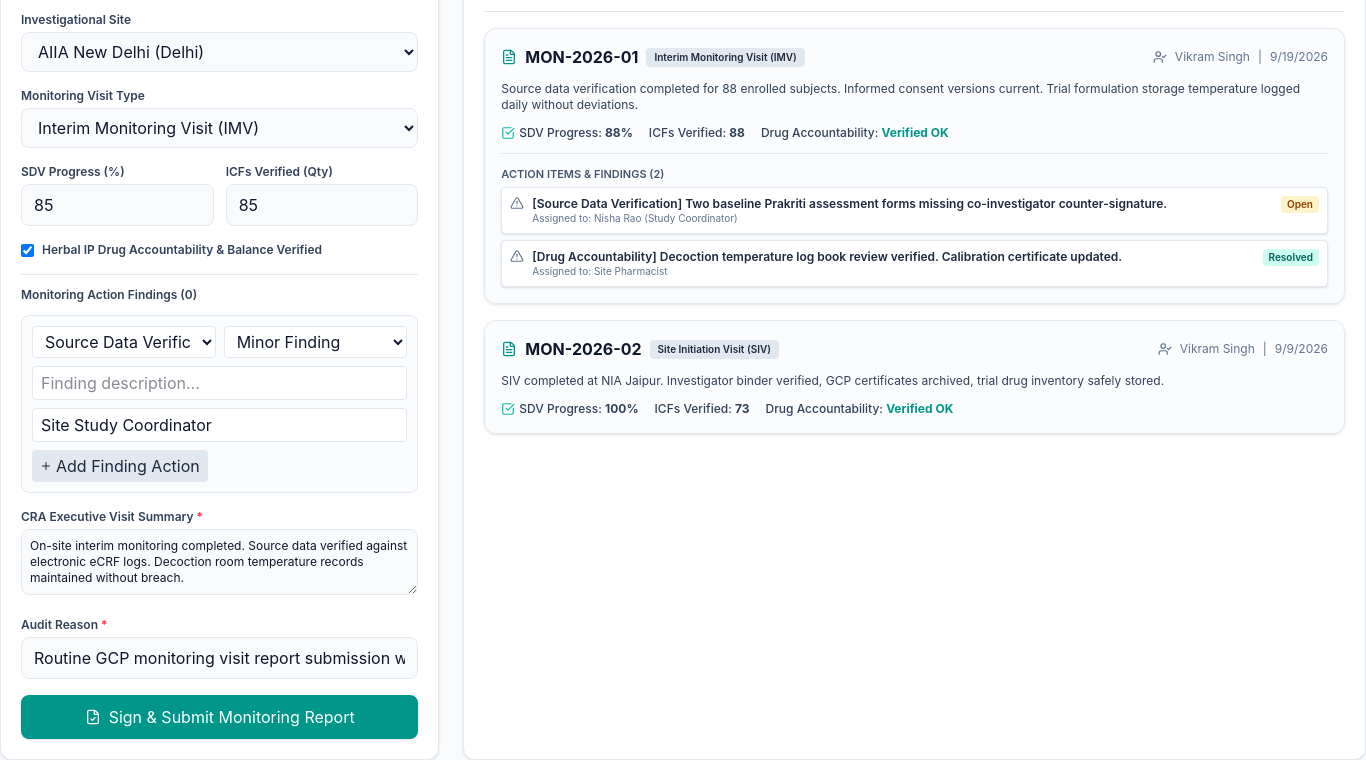
Scenario: MonitoringPage & CRA Trip Reports › adds an action finding item and submits signed CRA monitoring report
(page scrolled)
# Add finding item
In the field with placeholder "Finding description...": [220, 383] box [32, 366, 407, 400], type "Calibration log missing on herbal storage hygrometer"
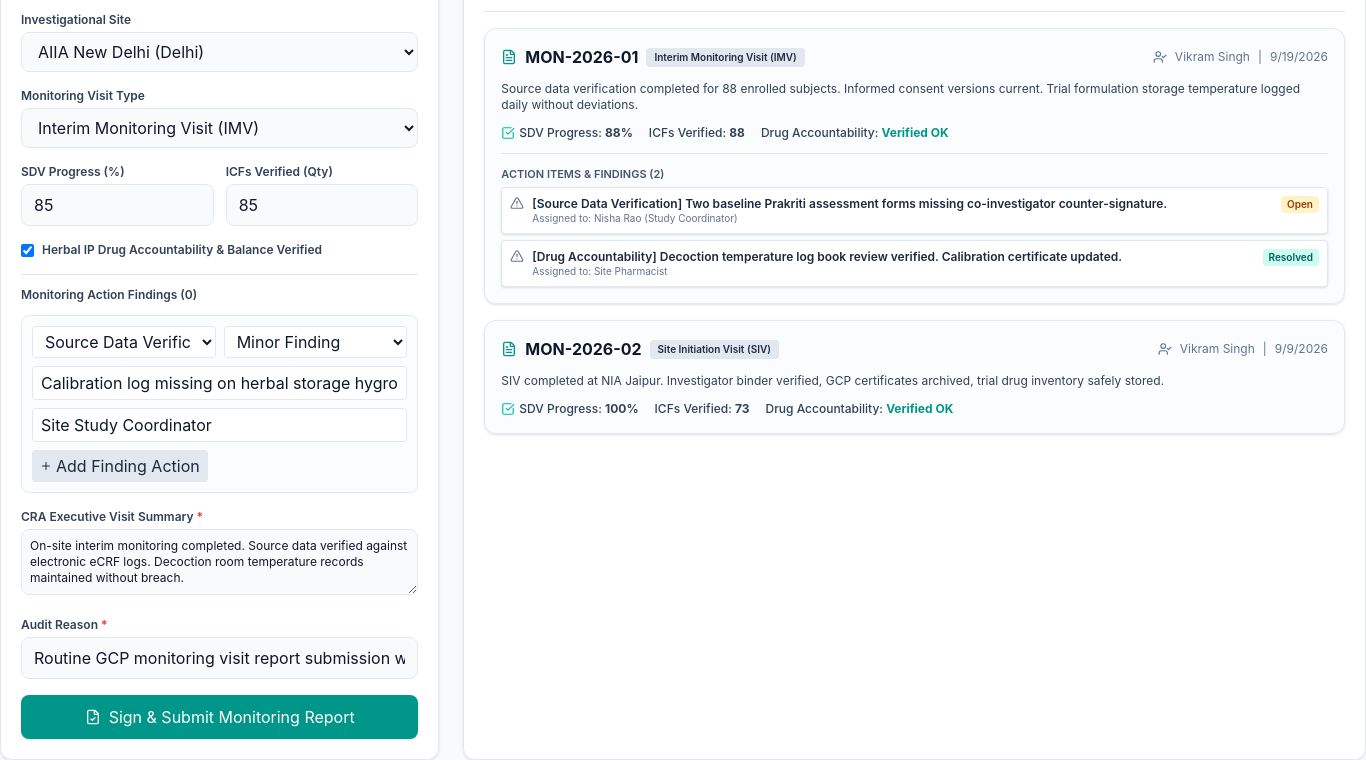
Click the button "Add Finding Action": [120, 466] box [32, 450, 208, 482]
(page scrolled)
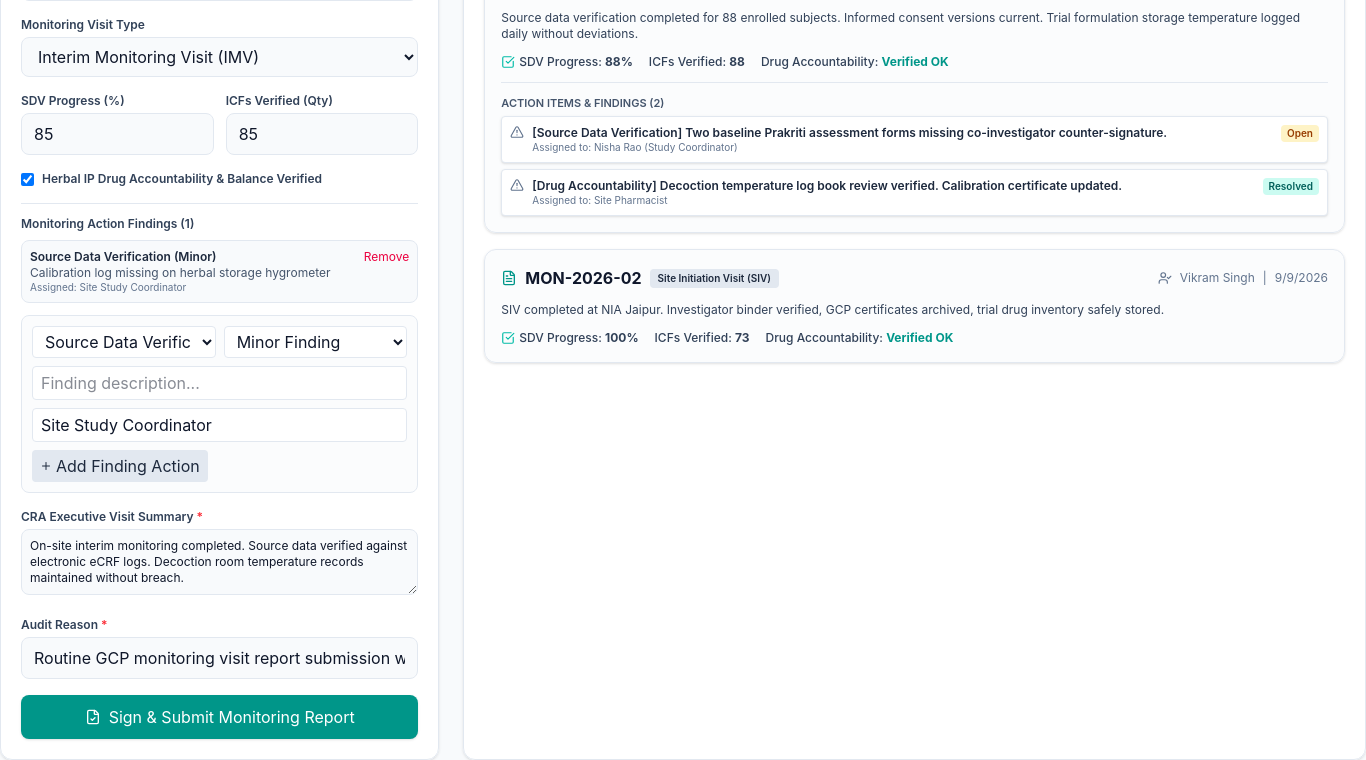
Result: the text "Calibration log missing on herbal storage hygrometer" is shown at [30, 265, 330, 281]
# Submit report
Click the button "Sign & Submit Monitoring Report": [220, 717] box [21, 695, 418, 739]
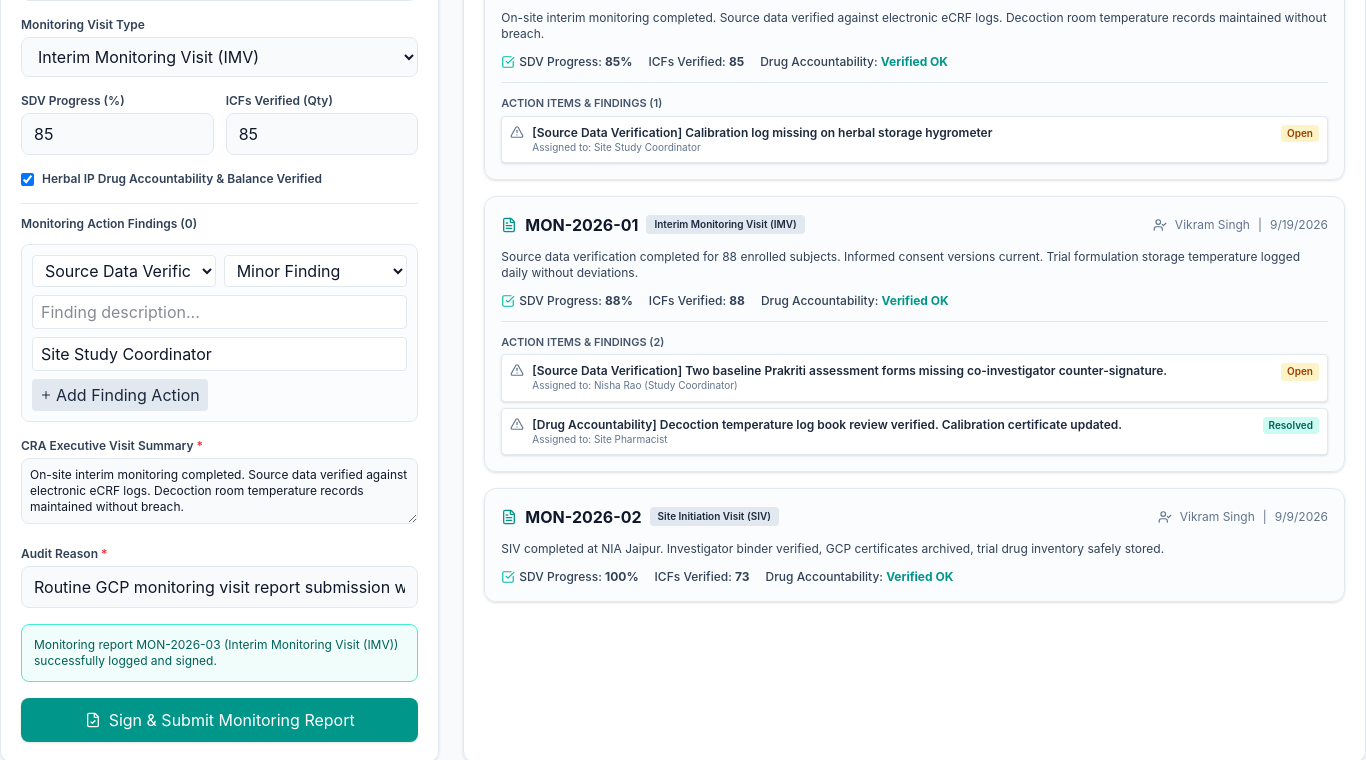
Result: the text "successfully logged and signed" is shown at [34, 637, 398, 668]
